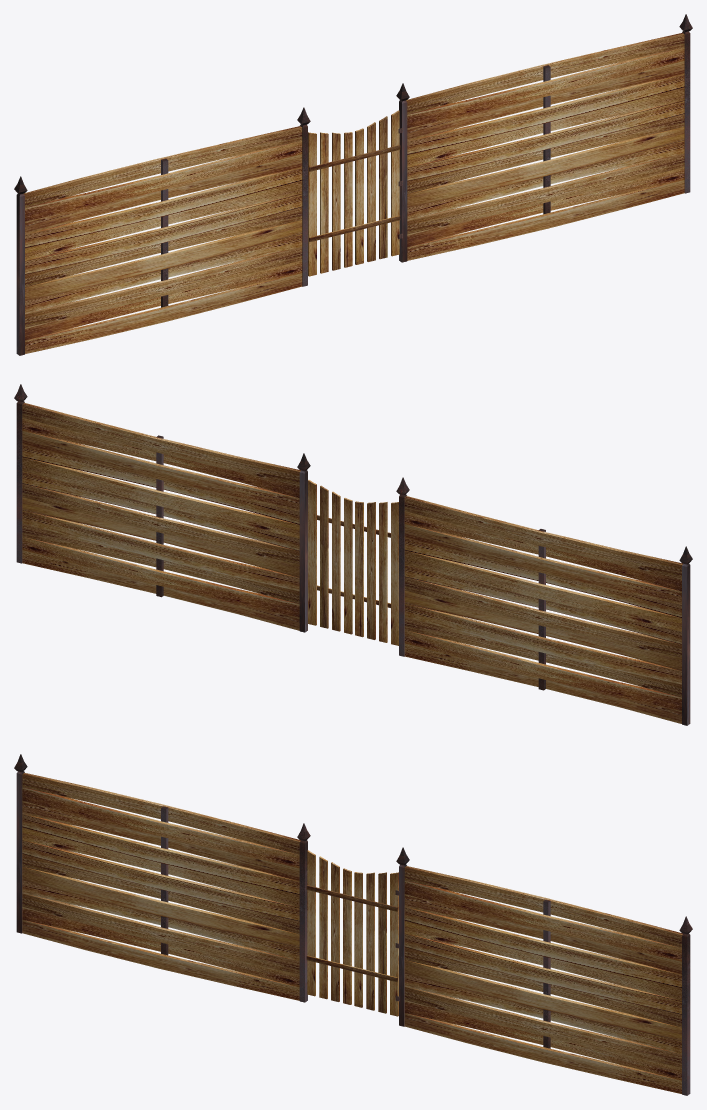
File: 3d_low_poly_wooden_fence.glb
3 views of the same model, one above another, from view 1: azimuth 30°, elevation 25°; view 2: azimuth 150°, elevation 25°; view 3: azimuth 330°, elevation 25° (orthographic).
Visible parts, largest first — view 1: Cube.013_0, Cube.002_1; view 2: Cube.013_0, Cube.002_1; view 3: Cube.013_0, Cube.002_1.
Boxes of the visible parts, bbox=[...] form: Cube.013_0: bbox=[14, 14, 692, 355]; Cube.002_1: bbox=[308, 110, 401, 276]; Cube.013_0: bbox=[14, 384, 692, 725]; Cube.002_1: bbox=[308, 480, 398, 645]; Cube.013_0: bbox=[14, 754, 692, 1095]; Cube.002_1: bbox=[306, 850, 398, 1016].
Bounding box in the file's own units: 7.82 × 1.97 × 0.1287.
Materials: 2 (2 with a texture image).
